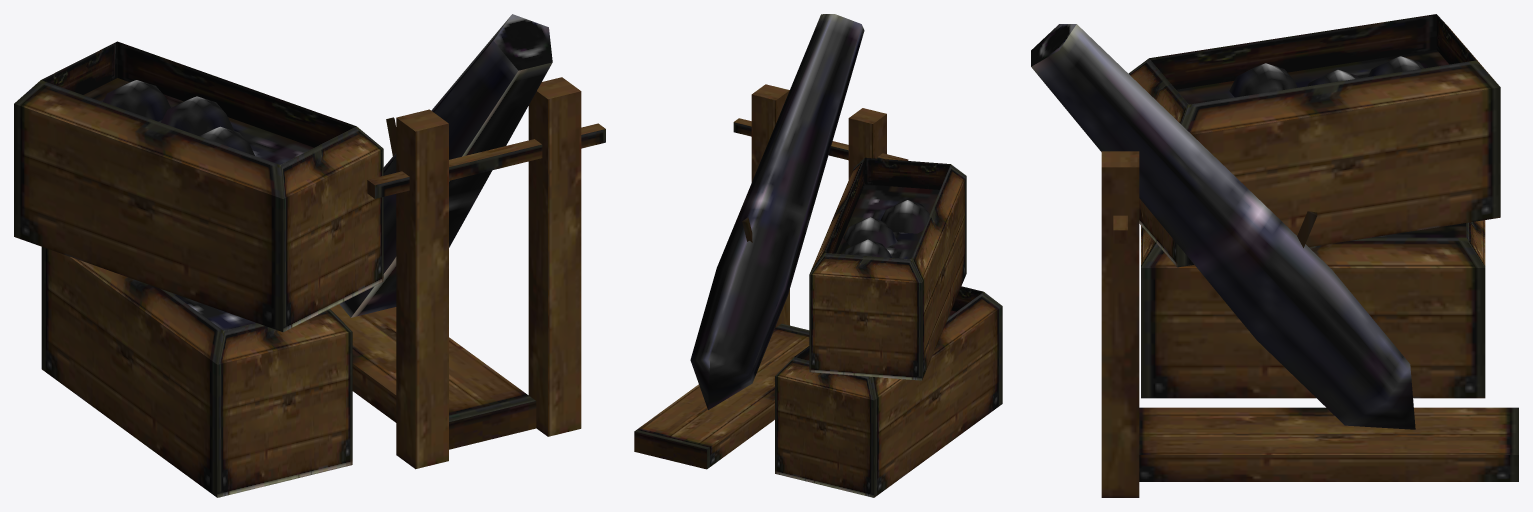
The picture shows the model from 3 angles, left to right: view 1: azimuth 30°, elevation 25°; view 2: azimuth 150°, elevation 25°; view 3: azimuth 270°, elevation 25°; orthographic projection. The views are drawn at different scales.
Parts seen in each view (by area): view 1: Cannon01; view 2: Cannon01; view 3: Cannon01.
Boxes of the visible parts, x1=… form: Cannon01: x1=14, y1=14, x2=605, y2=497; Cannon01: x1=634, y1=14, x2=1002, y2=497; Cannon01: x1=1031, y1=14, x2=1518, y2=497.
Bounding box in the file's own units: 132 × 133 × 136.
